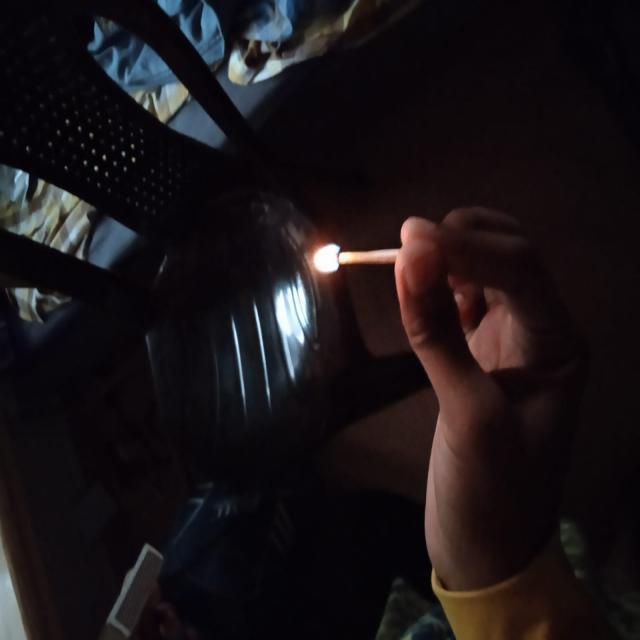Fire: (294, 220, 424, 305)
